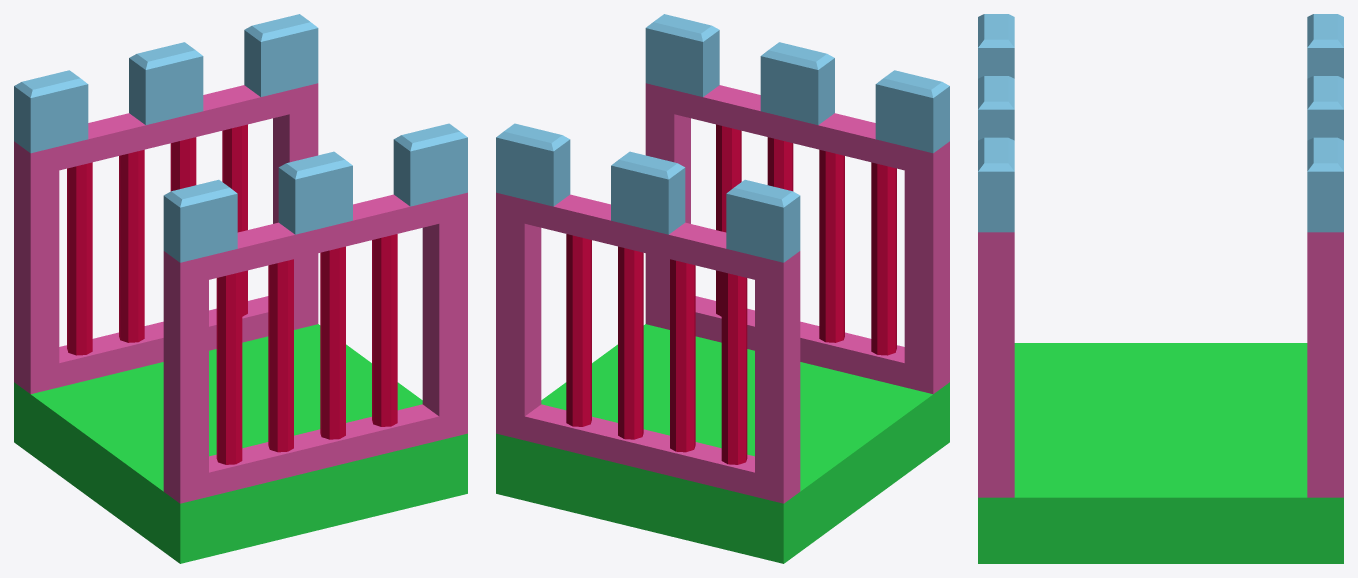
File: Playground Walkway.fbx
3 views of the same model, side by side, from view 1: azimuth 30°, elevation 25°; view 2: azimuth 150°, elevation 25°; view 3: azimuth 270°, elevation 25° (orthographic). The views are drawn at different scales.
Visible parts, largest first — view 1: Playground Walkway; view 2: Playground Walkway; view 3: Playground Walkway.
Boxes of the visible parts, x1,y1,x2,y2 form: Playground Walkway: (14, 14, 467, 563); Playground Walkway: (496, 14, 949, 563); Playground Walkway: (978, 14, 1343, 563).
Size of the model in its own units: 100 by 120 by 100.
